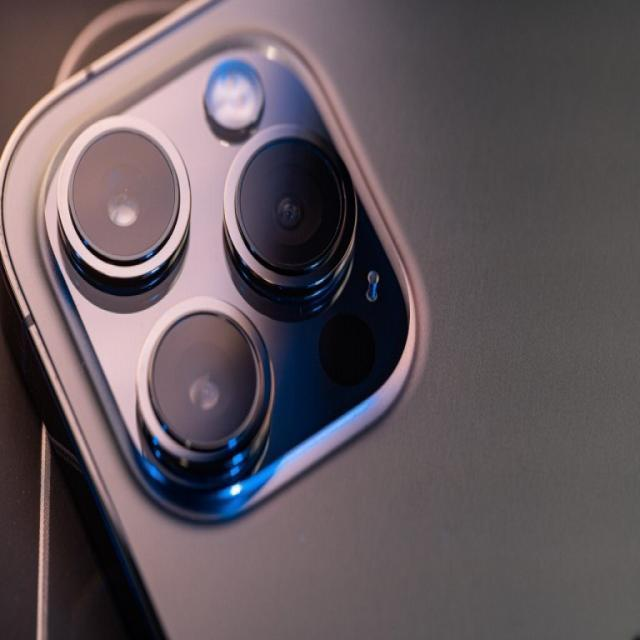Mobile: (11, 7, 640, 639)
